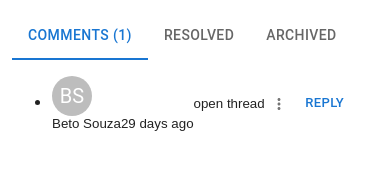
Test: <CommentsPanel /> status tabs › tabs filter by status; an empty tab shows its hint
Expected: the text "open thread" is shown, x1=194 y1=96 x2=265 y2=111
Click the tab "Resolved". click: (199, 36)
box: x1=148 y1=12 x2=250 y2=60
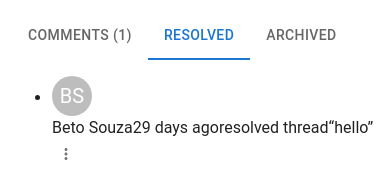
Expected: the text "resolved thread" is shown, x1=219 y1=118 x2=329 y2=137
Expected: the button "open thread" is gone
Click the tab "Archived". click: (301, 36)
box: x1=250 y1=12 x2=353 y2=60
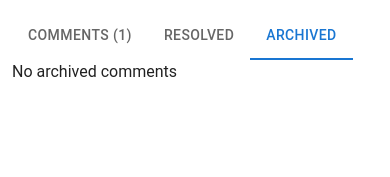
Expected: the text "No archived comments" is shown, x1=12 y1=62 x2=177 y2=81
